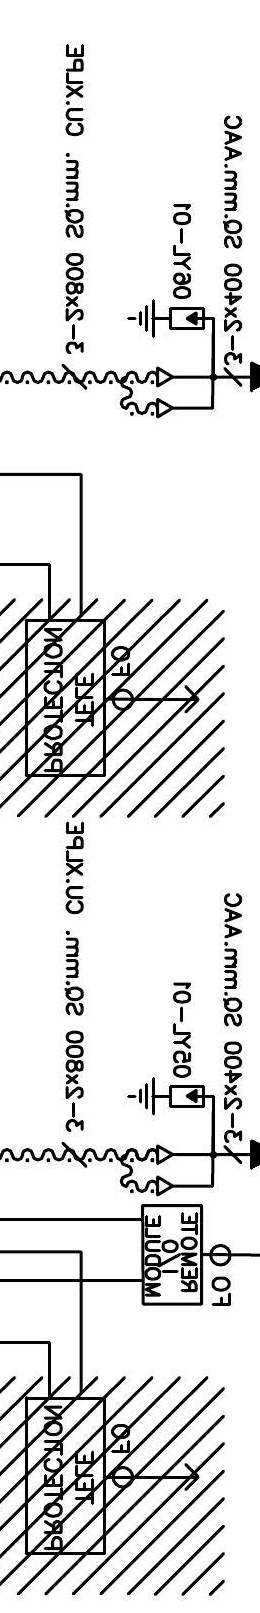115_la: (125, 1076, 207, 1116), (126, 298, 207, 338)
remote_io_module: (139, 1203, 205, 1307)
tele_protection: (22, 616, 109, 780), (22, 1395, 108, 1558)
terminator_double: (154, 1143, 216, 1197), (154, 365, 215, 420)
